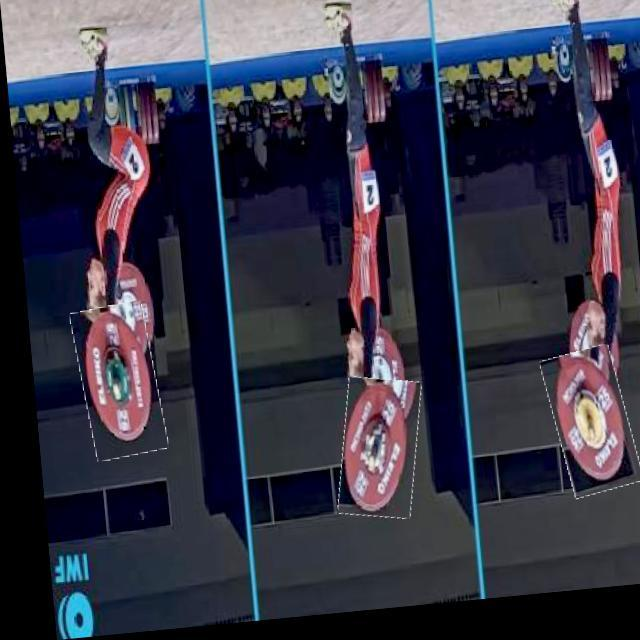barbell: (67, 304, 157, 463), (537, 358, 629, 510), (325, 382, 418, 529)
